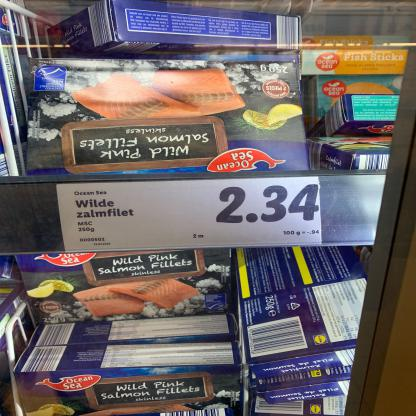prtg: (57, 178, 322, 253)
